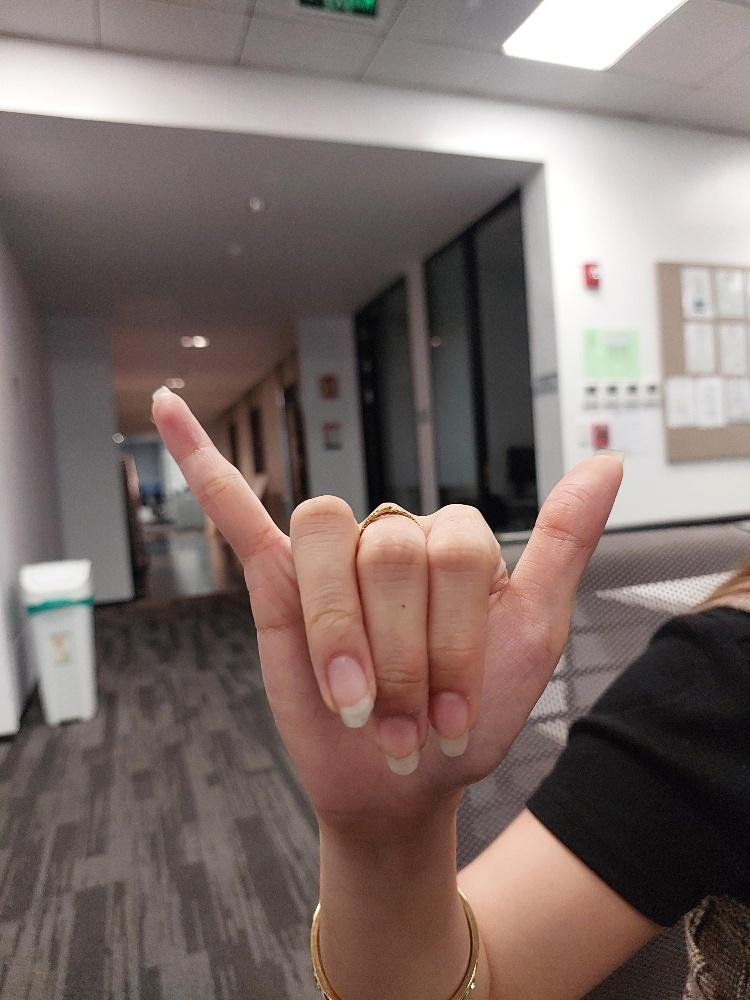y: (148, 383, 630, 840)
